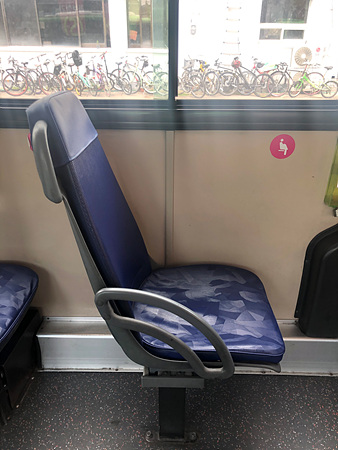seat: (31, 91, 283, 373)
